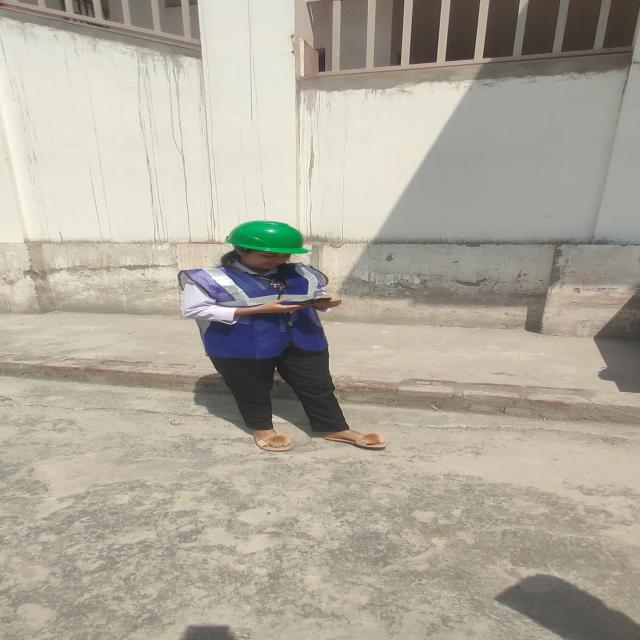safe: (177, 220, 329, 450)
